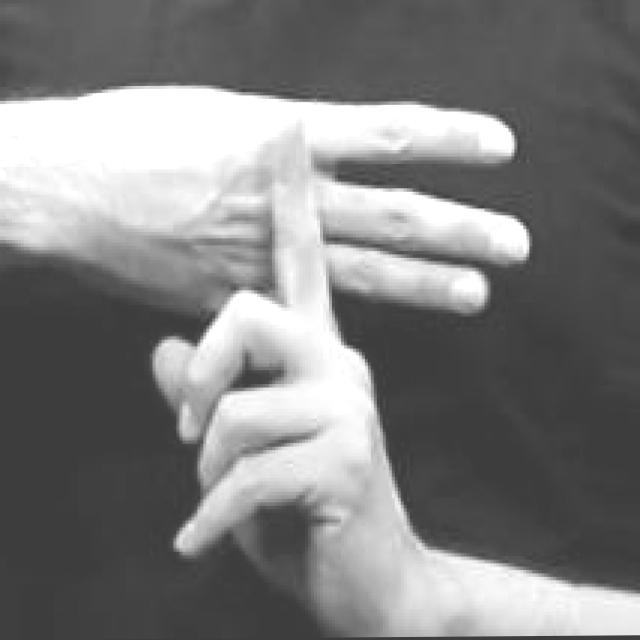E: (146, 72, 535, 639)
